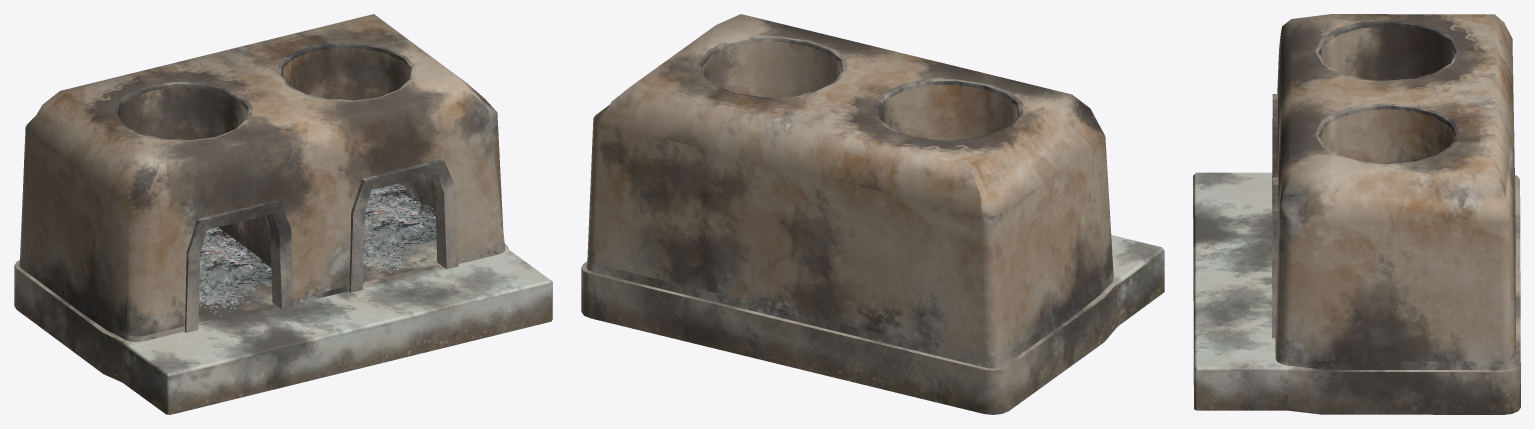
The model's file is jov_kamado01.fbx.
3 views of the same model, side by side, from view 1: azimuth 30°, elevation 25°; view 2: azimuth 150°, elevation 25°; view 3: azimuth 270°, elevation 25° (orthographic). The views are drawn at different scales.
Parts seen in each view (by area): view 1: jov_kamado01; view 2: jov_kamado01; view 3: jov_kamado01.
Boxes of the visible parts, left/top/right/bottom form: jov_kamado01: left=14, top=14, right=552, bottom=414; jov_kamado01: left=581, top=14, right=1164, bottom=414; jov_kamado01: left=1193, top=14, right=1520, bottom=414.
Bounding box in the file's own units: 183 × 93.98 × 126.
